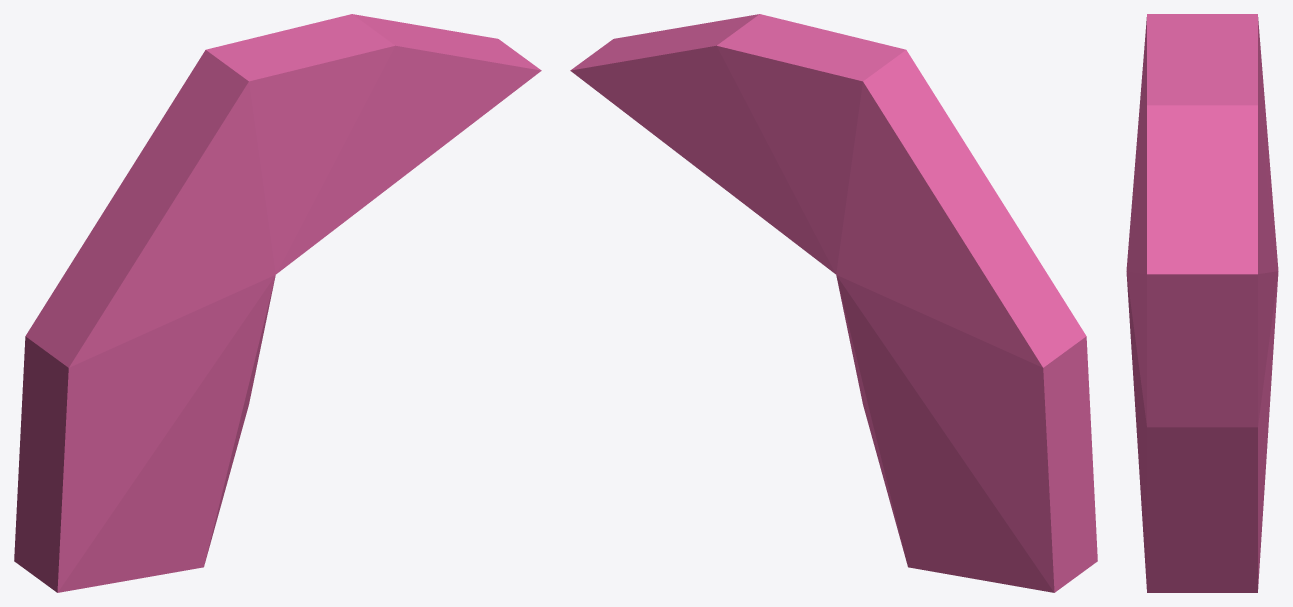
3 views of the same model, side by side, from view 1: azimuth 30°, elevation 25°; view 2: azimuth 150°, elevation 25°; view 3: azimuth 270°, elevation 25° (orthographic). The views are drawn at different scales.
Visible parts, largest first — view 1: 折颈鸟头与尖喙.001; view 2: 折颈鸟头与尖喙.001; view 3: 折颈鸟头与尖喙.001.
Boxes of the visible parts, x1=… form: 折颈鸟头与尖喙.001: x1=14, y1=14, x2=541, y2=592; 折颈鸟头与尖喙.001: x1=570, y1=14, x2=1097, y2=592; 折颈鸟头与尖喙.001: x1=1126, y1=14, x2=1278, y2=592.
Size of the model in its own units: 0.4515 by 0.423 by 0.096.
